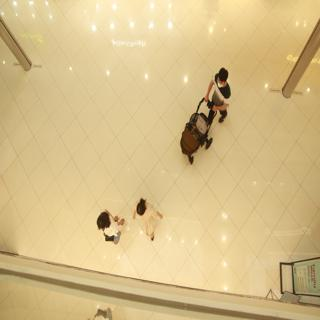person: (205, 58, 239, 131), (129, 191, 173, 245), (92, 200, 123, 257)
